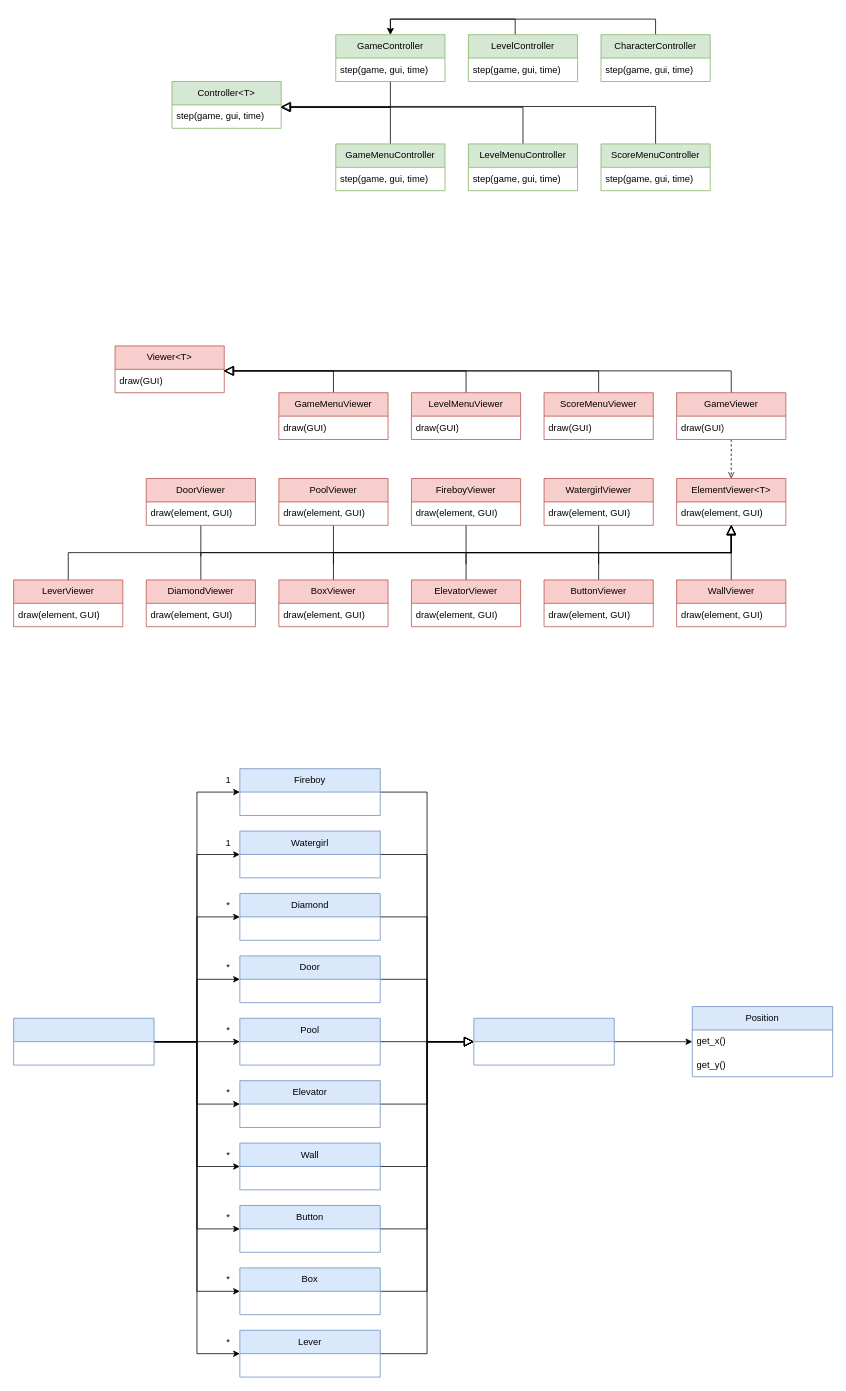
The diagram is 846 pixels wide and 1391 high, and some of its shapes have lost their labels. The centre of each missing label's shape, as x and y in pixels:
Element: point 543,1041
Level: point 83,1041
